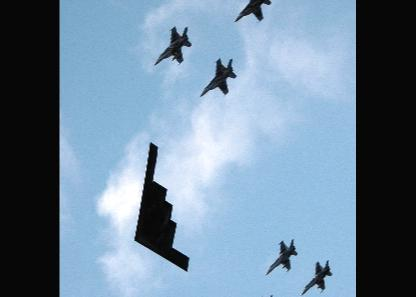B1: (134, 142, 190, 272)
F15: (154, 26, 192, 66), (199, 57, 236, 96), (264, 238, 297, 275), (300, 258, 332, 294), (234, 0, 272, 23)
